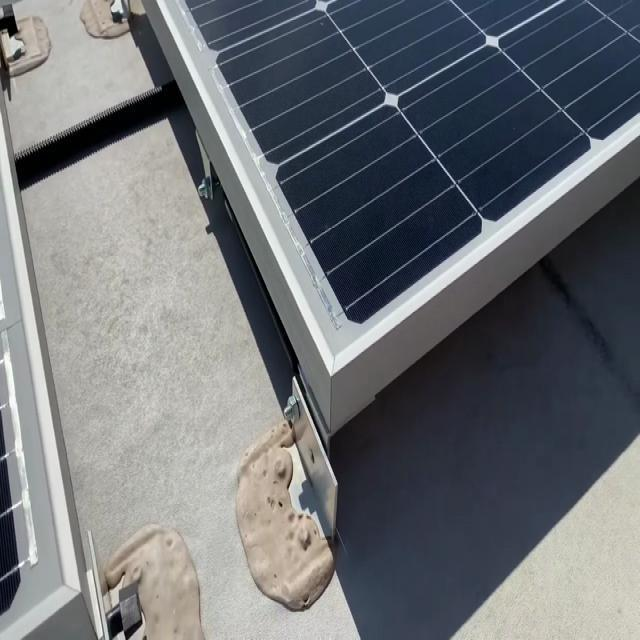Normal Solar Panel: (151, 0, 640, 375)
